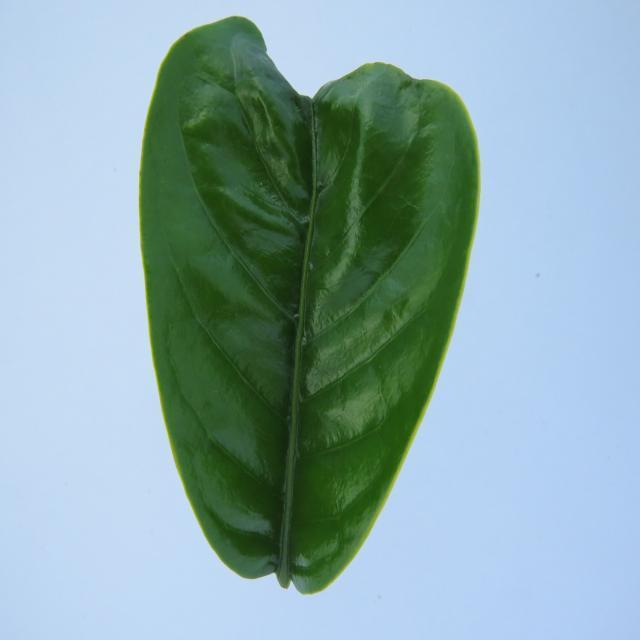DeficienciaNutricional-Boro: (140, 17, 480, 593)
